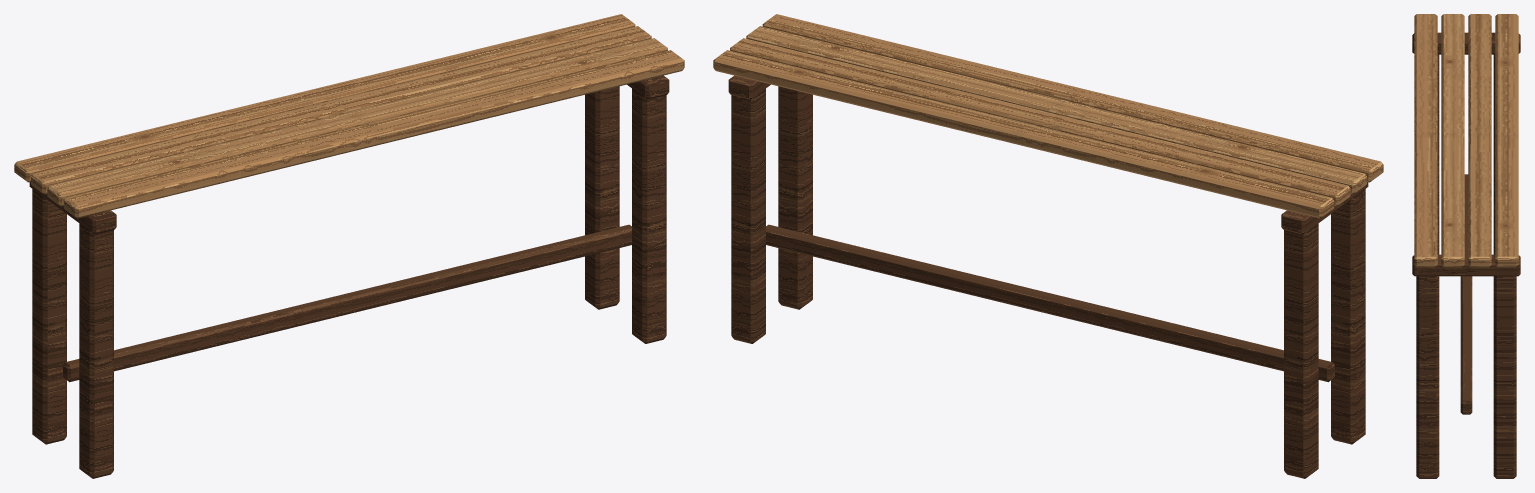
Rendered from plant_bench.glb.
The picture shows the model from 3 angles, left to right: view 1: azimuth 30°, elevation 25°; view 2: azimuth 150°, elevation 25°; view 3: azimuth 270°, elevation 25°; orthographic projection. The views are drawn at different scales.
Parts seen in each view (by area): view 1: p; view 2: p; view 3: p.
Part boxes in pixels (x1=…): p: x1=14, y1=14, x2=684, y2=478; p: x1=713, y1=14, x2=1383, y2=478; p: x1=1412, y1=14, x2=1520, y2=478.
Bounding box in the file's own units: 1.5 × 0.655 × 0.28.
2 materials, 2 textured.
